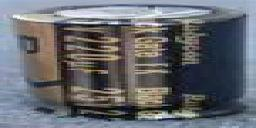Electrolytic-capacitor: (7, 4, 256, 128)
